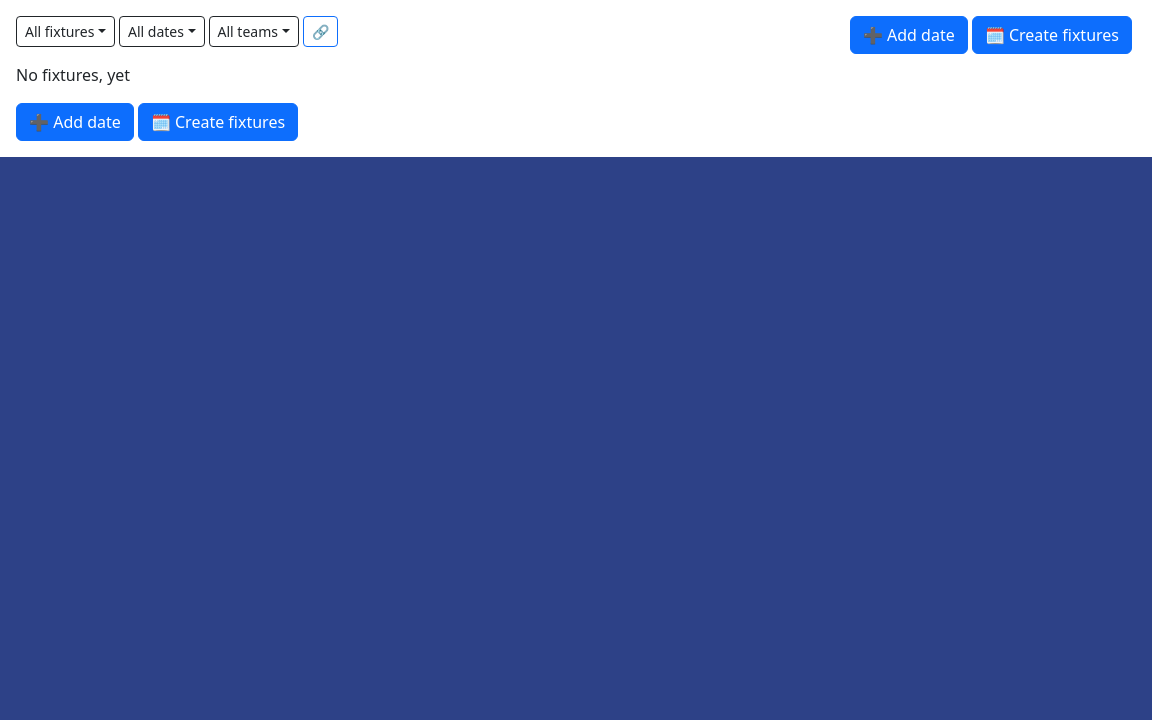
DivisionFixtures › when logged in › can open add date dialog
This screenshot has width=1152, height=720.
Click the 1st button "➕ Add date" at (909,35), box [850,16,968,54]
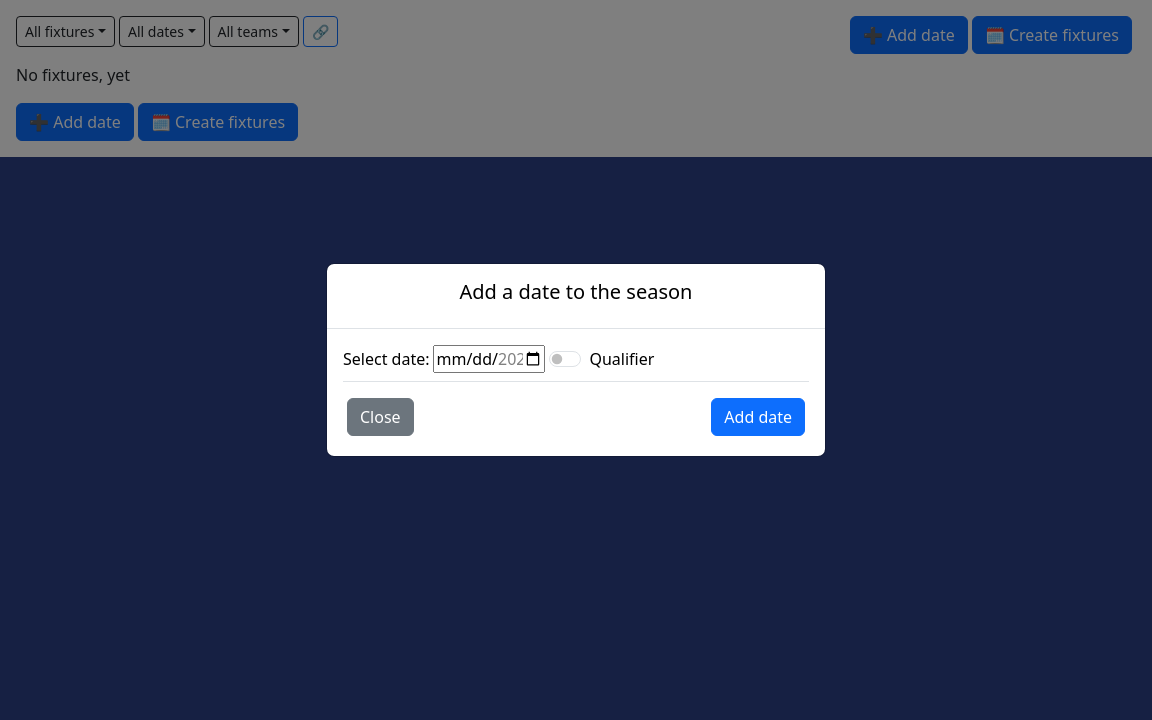
Now the element with class "modal-dialog" is shown, box [326,263,826,457]
Now the element with class "modal-dialog" shows "Add date", box [711,398,805,436]
